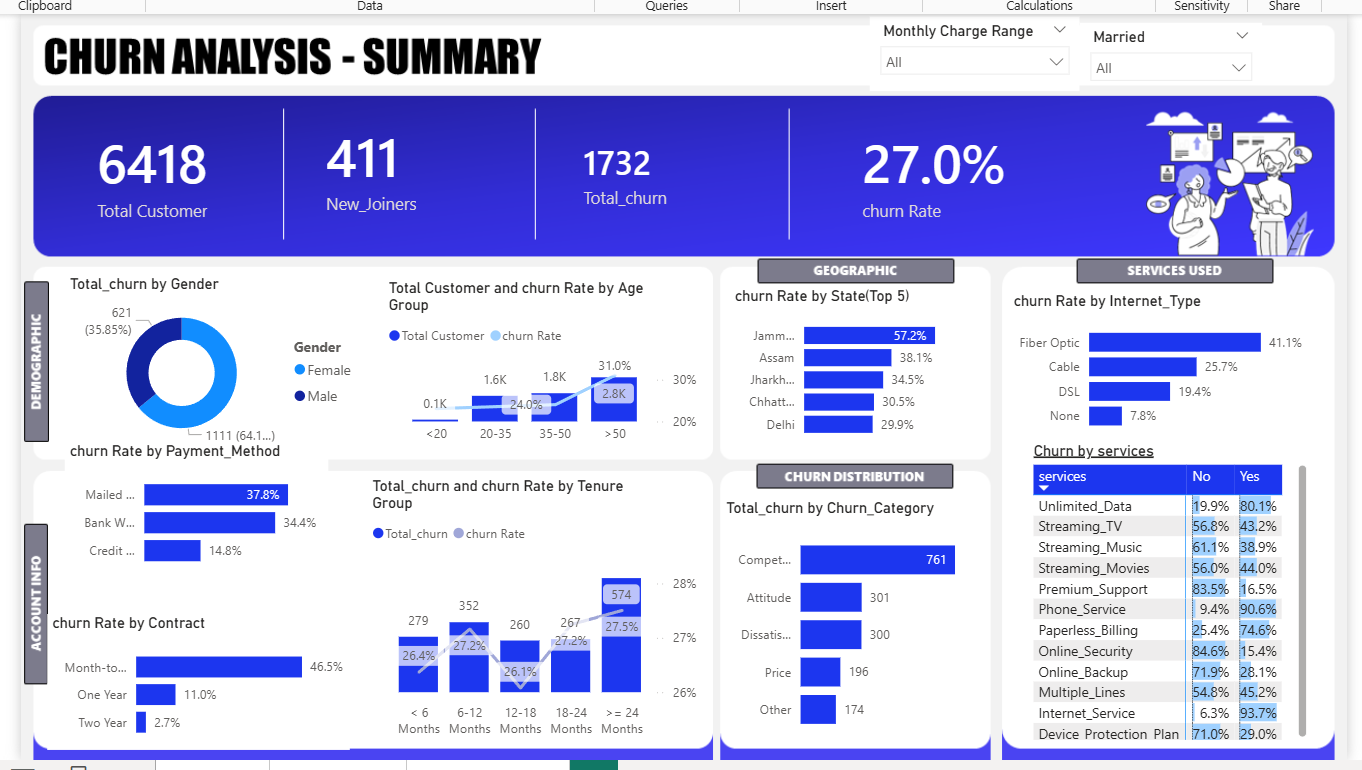

Layout of this report page (visuals, bound fields, positions):
{"tool":"powerbi","page":{"name":"summary","canvas":[1280,720],"ordinal":0},"visuals":[{"type":"cardVisual","fields":{"Data":["tbl_Measures.Total Customer"]},"box":[44.6,95.3,201.5,118.2],"z":0},{"type":"cardVisual","fields":{"Data":["tbl_Measures.Total_churn"]},"box":[513.9,89.3,217.2,130.3],"z":1000},{"type":"cardVisual","fields":{"Data":["tbl_Measures.New_Joiners"]},"box":[265.4,83.2,220.8,130.3],"z":2000},{"type":"cardVisual","fields":{"Data":["tbl_Measures.churn Rate"]},"box":[783,95.3,217.2,118.2],"z":3000},{"type":"donutChart","fields":{"Category":["prod_Churn.Gender"],"Y":["tbl_Measures.Total_churn"]},"box":[42.2,252.1,292,171.3],"z":4000},{"type":"lineStackedColumnComboChart","fields":{"Category":["mapping_ageGrp.Age Group"],"Y":["tbl_Measures.Total Customer"],"Y2":["tbl_Measures.churn Rate"]},"box":[349.9,255.8,307.6,167.7],"z":6000},{"type":"clusteredBarChart","fields":{"Category":["prod_Churn.Payment_Method"],"Y":["tbl_Measures.churn Rate"]},"box":[42.2,412.6,254.6,132.7],"z":7000},{"type":"clusteredBarChart","fields":{"Category":["prod_Churn.Contract"],"Y":["tbl_Measures.churn Rate"]},"box":[25.3,579.1,292,131.5],"z":8000},{"type":"lineStackedColumnComboChart","fields":{"Category":["Tenure.Tenure Group"],"Y":["tbl_Measures.Total_churn"],"Y2":["tbl_Measures.churn Rate"]},"box":[334.2,446.4,323.3,259.4],"z":9000},{"type":"clusteredBarChart","title":"churn Rate by State(Top 5)","fields":{"Category":["prod_Churn.State"],"Y":["tbl_Measures.churn Rate"]},"box":[684.1,263,236.5,155.6],"z":10000},{"type":"clusteredBarChart","fields":{"Category":["prod_Churn.Churn_Category"],"Y":["tbl_Measures.Total_churn"]},"box":[675.6,468.1,255.8,237.7],"z":11000},{"type":"clusteredBarChart","fields":{"Category":["prod_Churn.Internet_Type"],"Y":["tbl_Measures.churn Rate"]},"box":[953.1,267.8,294.4,144.8],"z":12000},{"type":"pivotTable","title":"Churn by services","fields":{"Rows":["prod_service.services"],"Columns":["prod_service.status"],"Values":["Sum(prod_service.Churn Status)"]},"box":[972.4,412.6,273.9,293.2],"z":13000},{"type":"slicer","fields":{"Values":["prod_service.Monthly Charge status"]},"box":[819.2,2.4,202.7,72.4],"z":14000},{"type":"slicer","fields":{"Values":["prod_service.Married"]},"box":[1021.9,8.4,176.1,60.3],"z":15000}]}

Visuals, with their boxes on the page's 1280x720 design canvas (x1, y1, x2, y2). These are canvas units, not pixel positions in the 1362x770 screenshot, which may show the page scaled, cropped or inside an application window:
cardVisual - tbl_Measures.Total Customer: pyautogui.locateOnScreen(45, 95, 246, 214)
cardVisual - tbl_Measures.Total_churn: pyautogui.locateOnScreen(514, 89, 731, 220)
cardVisual - tbl_Measures.New_Joiners: pyautogui.locateOnScreen(265, 83, 486, 214)
cardVisual - tbl_Measures.churn Rate: pyautogui.locateOnScreen(783, 95, 1000, 214)
donutChart - prod_Churn.Gender x tbl_Measures.Total_churn: pyautogui.locateOnScreen(42, 252, 334, 423)
lineStackedColumnComboChart - mapping_ageGrp.Age Group x tbl_Measures.Total Customer: pyautogui.locateOnScreen(350, 256, 658, 424)
clusteredBarChart - prod_Churn.Payment_Method x tbl_Measures.churn Rate: pyautogui.locateOnScreen(42, 413, 297, 545)
clusteredBarChart - prod_Churn.Contract x tbl_Measures.churn Rate: pyautogui.locateOnScreen(25, 579, 317, 711)
lineStackedColumnComboChart - Tenure.Tenure Group x tbl_Measures.Total_churn: pyautogui.locateOnScreen(334, 446, 658, 706)
"churn Rate by State(Top 5)" clusteredBarChart: pyautogui.locateOnScreen(684, 263, 921, 419)
clusteredBarChart - prod_Churn.Churn_Category x tbl_Measures.Total_churn: pyautogui.locateOnScreen(676, 468, 931, 706)
clusteredBarChart - prod_Churn.Internet_Type x tbl_Measures.churn Rate: pyautogui.locateOnScreen(953, 268, 1248, 413)
"Churn by services" pivotTable: pyautogui.locateOnScreen(972, 413, 1246, 706)
slicer - prod_service.Monthly Charge status: pyautogui.locateOnScreen(819, 2, 1022, 75)
slicer - prod_service.Married: pyautogui.locateOnScreen(1022, 8, 1198, 69)
